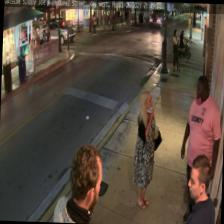person: (178, 73, 222, 222), (52, 142, 103, 223), (130, 89, 159, 208), (182, 153, 216, 224)
